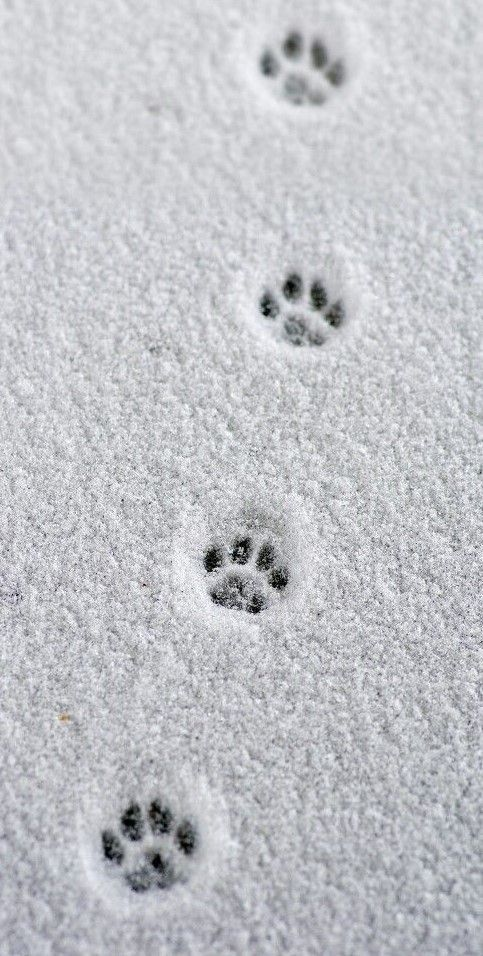cat: (235, 267, 358, 361), (184, 525, 297, 625), (98, 790, 200, 898), (250, 13, 351, 120)
